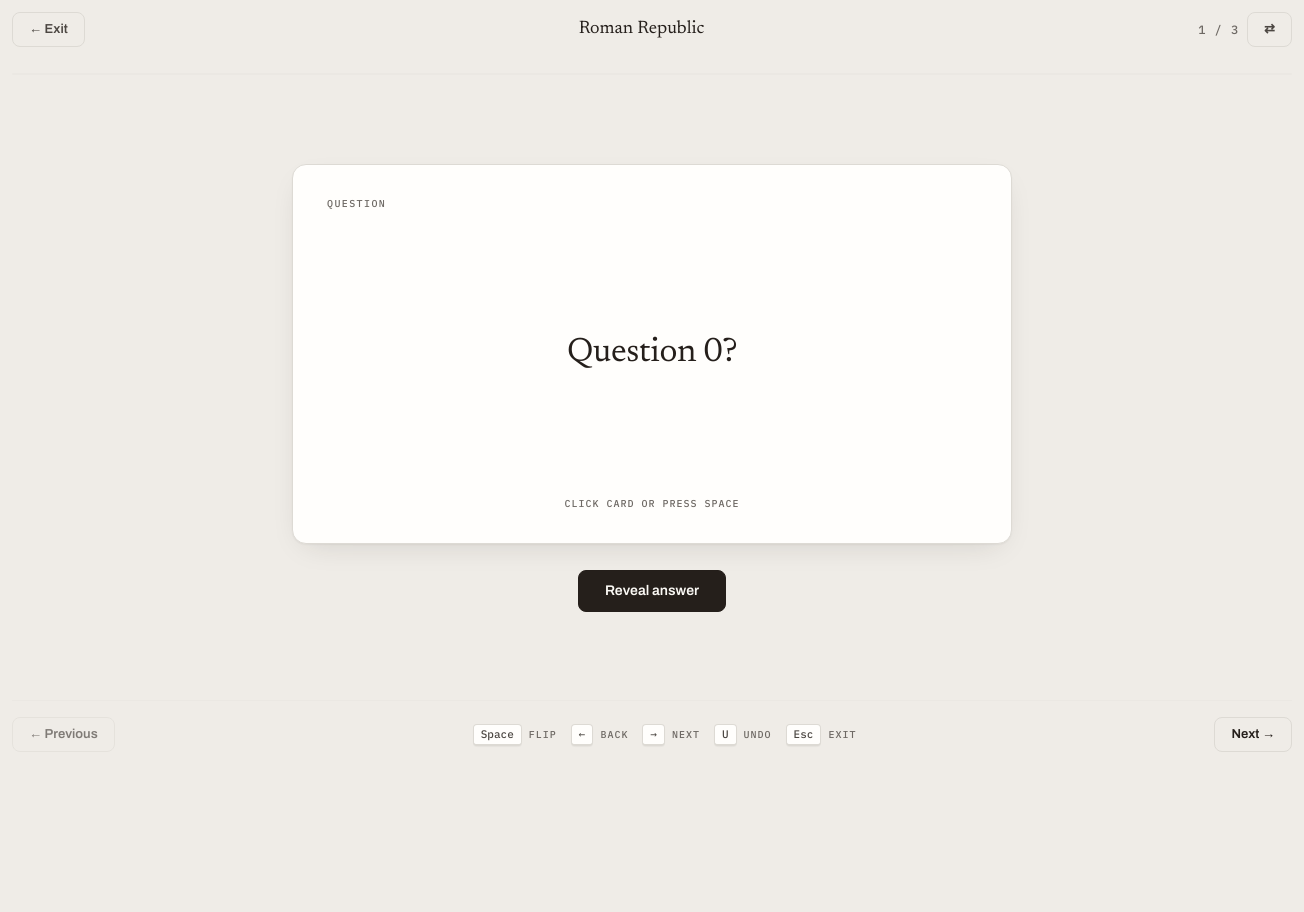
finding your way around it › separates a rating from its interval
Click the button "Reveal answer": click(652, 590) [578,570,726,612]
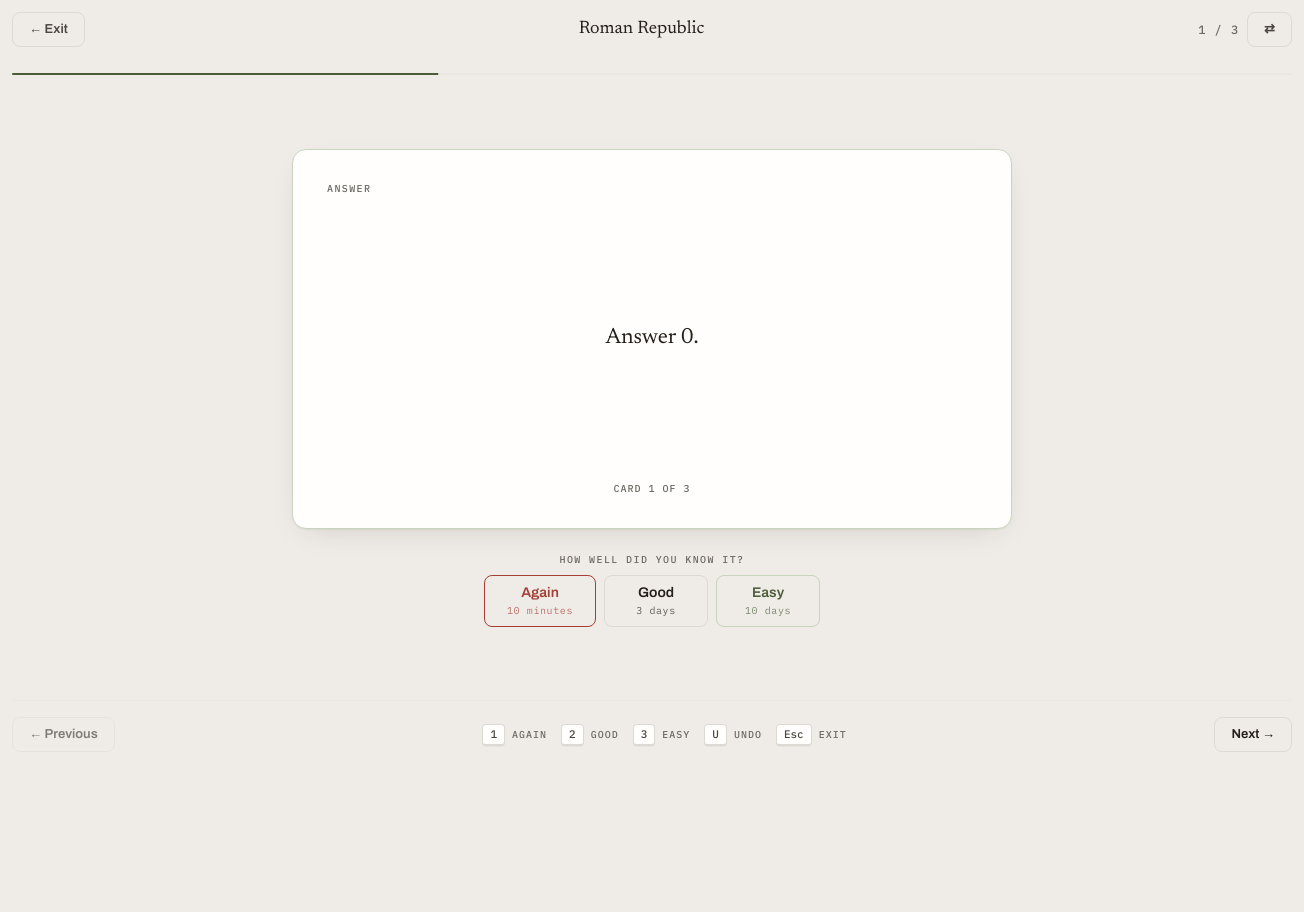
Check: the button with aria-label "Again — next due in" is shown, box [484,574,596,626]
Check: the button with aria-label "Easy — next due in" is shown, box [716,574,820,626]
